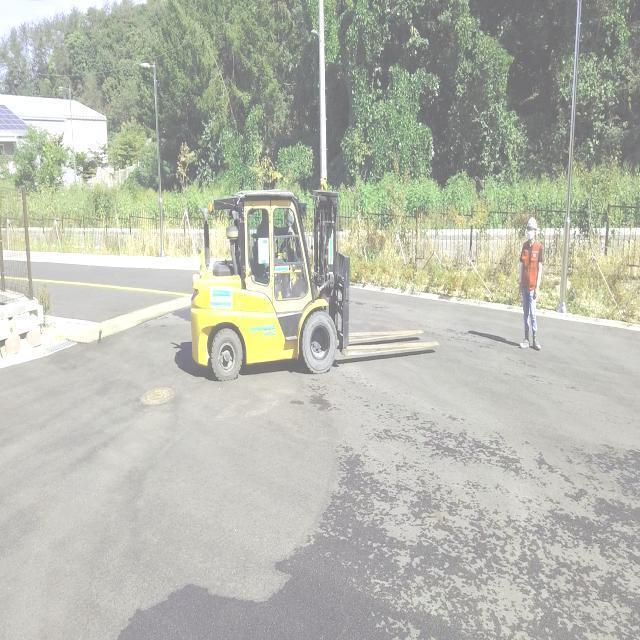forklift: (191, 190, 345, 388)
person: (512, 212, 550, 355)
